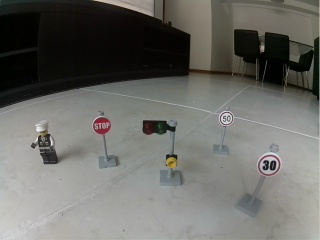Person: (31, 120, 59, 165)
Red Traffic Light: (142, 119, 183, 188)
Speed Limit 30: (257, 153, 281, 177)
Speed Limit 50: (218, 111, 234, 127)
Stop Sign: (92, 115, 111, 137)
